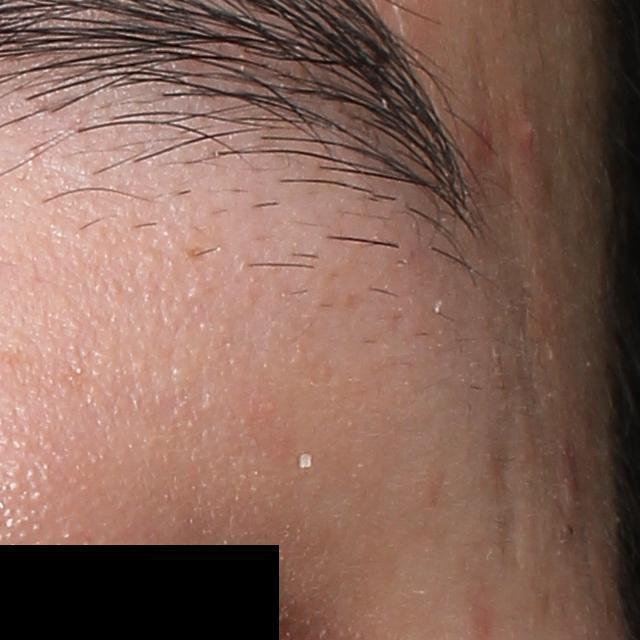atrophic_scar: (488, 416, 536, 574)
papule: (511, 106, 540, 154)
